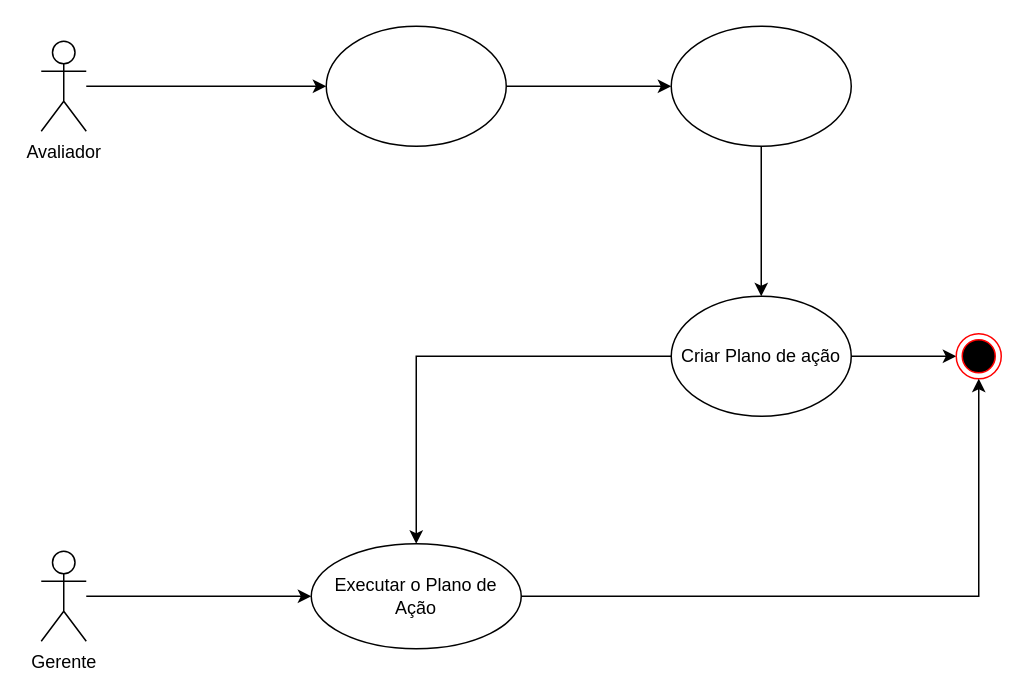
This 1028x699 diagram has some shape labels left out. Here are the shapes that lost their labels. From the top down, the box of each, then its label:
(325, 25, 506, 146): Inicio da auditoria
(670, 25, 851, 146): Responder perguntas
